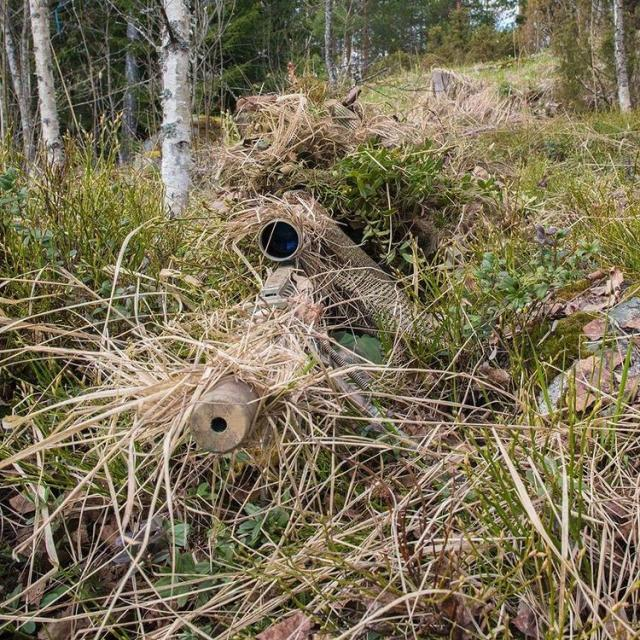Camouflage: (186, 67, 476, 457)
